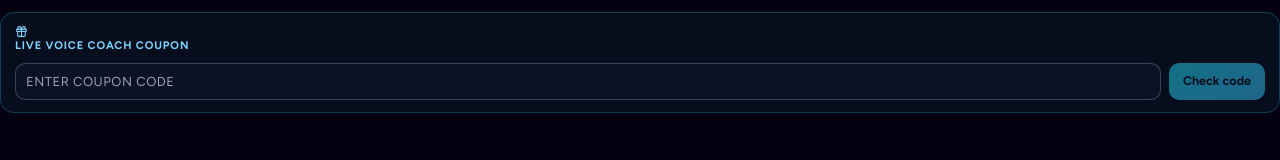
it: redeeming a valid code shows success and calls onRedeemed with the credited amount
Type "ok1" into the field with test id "live-coupon-input" at (588, 81), box [15, 62, 1161, 100]
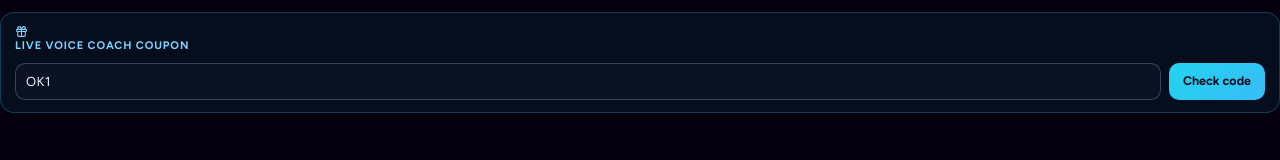
Click the button with test id "live-coupon-check-btn" at (1217, 81), box [1169, 62, 1265, 100]
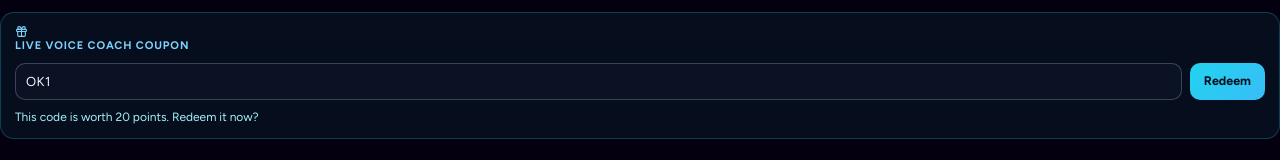
expect the button with test id "live-coupon-redeem-btn" is shown: met
Click the button with test id "live-coupon-redeem-btn" at (1227, 81), box [1190, 62, 1265, 100]
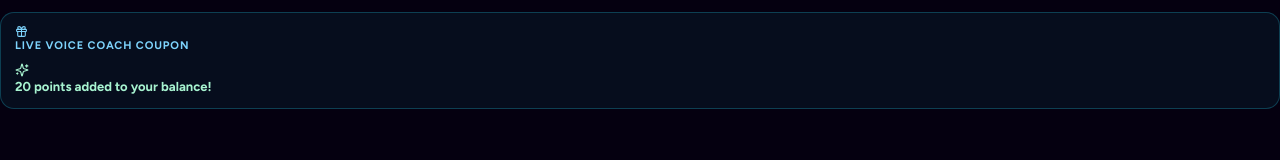
expect the element with test id "live-coupon-success" is shown: met, box [15, 62, 212, 94]
expect the element with test id "live-coupon-success" shows "20 points": met, box [15, 78, 212, 94]
